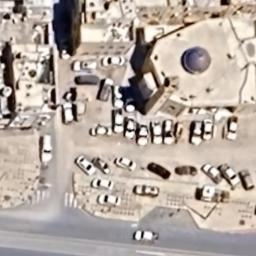SUV: (39, 133, 55, 163), (97, 76, 114, 102), (72, 58, 99, 74), (162, 116, 176, 146), (149, 116, 163, 144), (189, 120, 204, 146), (112, 84, 126, 108), (63, 101, 76, 125)
pickup: (223, 115, 238, 141)
sedan: (219, 161, 242, 189), (144, 159, 172, 181), (74, 152, 96, 177), (236, 164, 256, 190), (113, 153, 138, 173), (201, 162, 223, 184), (90, 175, 119, 191), (132, 182, 162, 197), (133, 228, 159, 245), (95, 192, 121, 208), (122, 114, 136, 143), (92, 156, 114, 174), (100, 54, 130, 67), (89, 124, 114, 138), (202, 118, 215, 144), (58, 38, 72, 62), (138, 120, 150, 147), (111, 108, 124, 132), (125, 93, 136, 114)
unknown: (72, 72, 102, 86), (175, 161, 200, 177)
